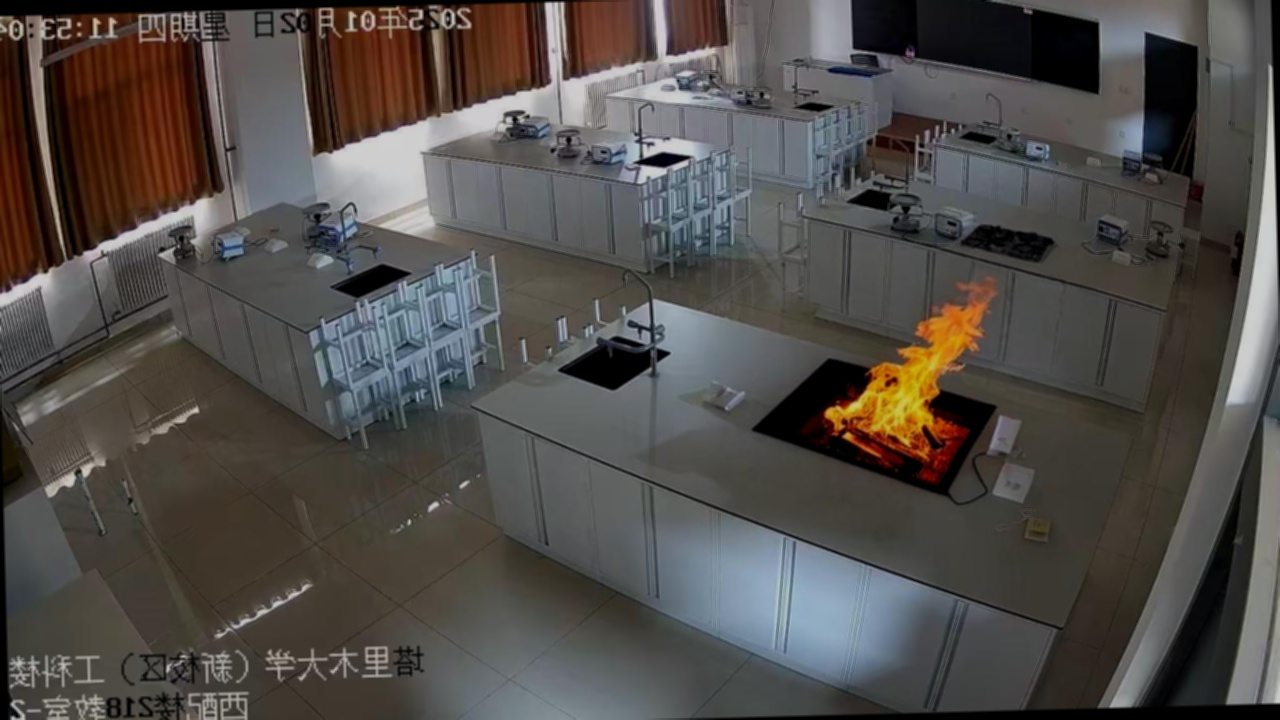fire: (802, 259, 1019, 493)
